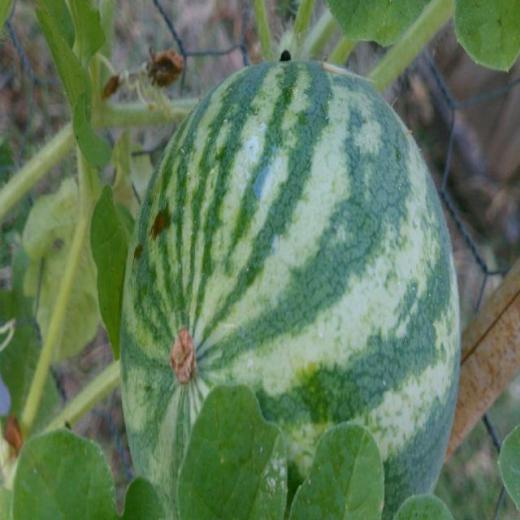Cherry: (119, 59, 460, 520)
